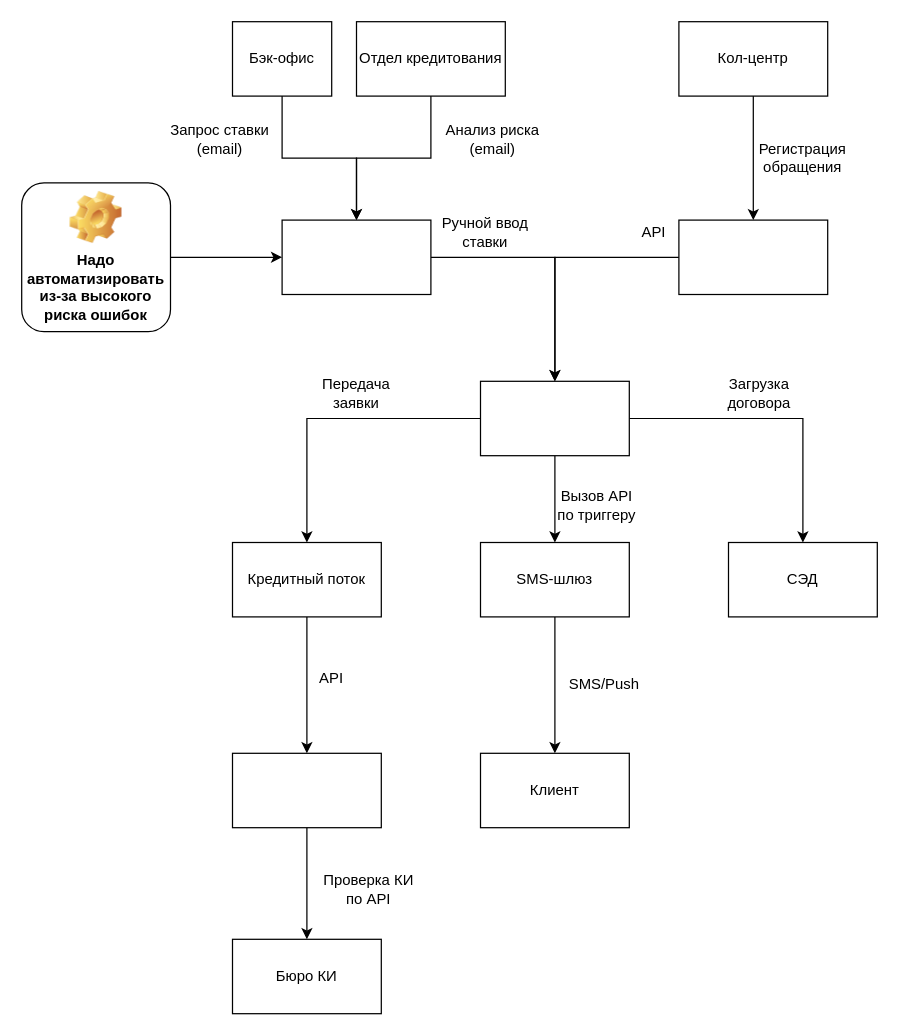
Some shapes in this 899 by 1035 pixel diagram are drawn without their labels. Each missing label, with the centre of its shape:
CRM: [753,256]
Excel/Email: [356,256]
АБС: [554,418]
Скоринг: [306,790]
